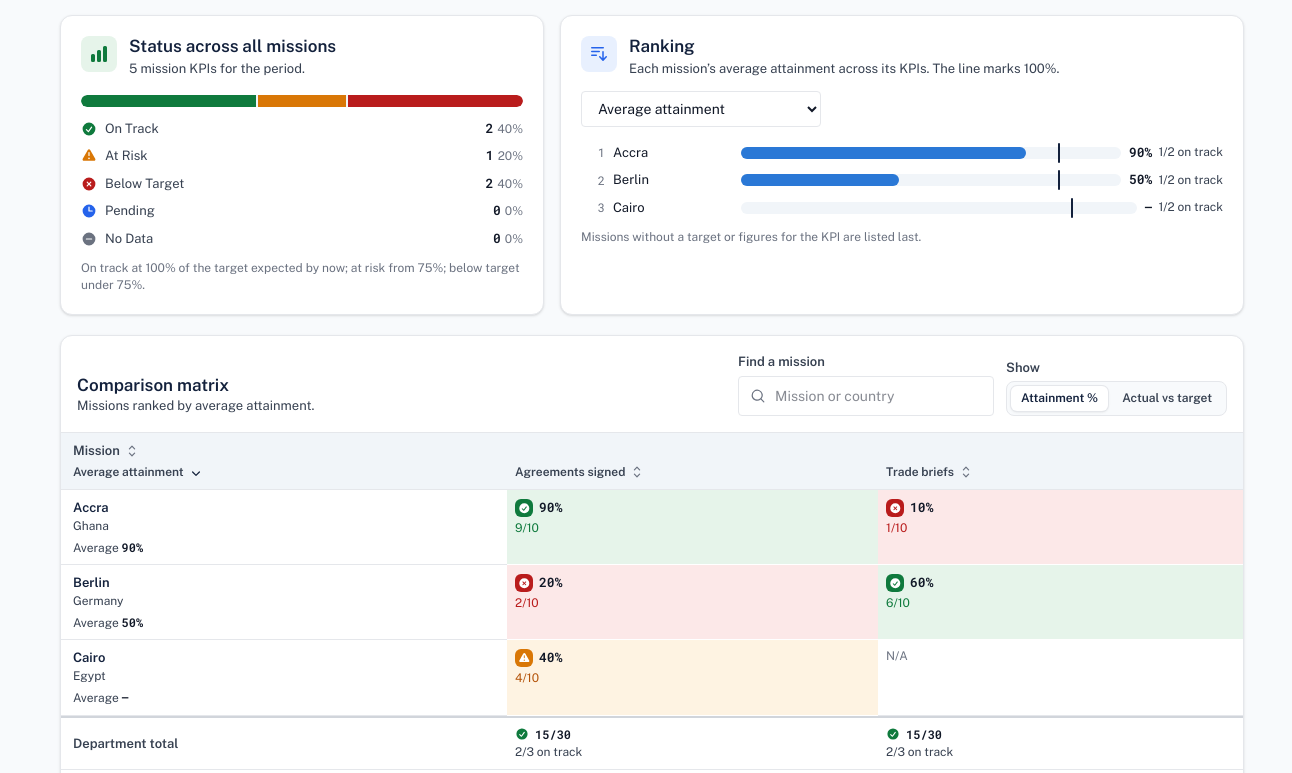
Test: KpiComparisonPage › filters missions by name or country
(page scrolled)
Expected: the row with test id "kpi-matrix-row-mission-accra" is shown, [61,490,1243,565]
Type "germ" into the search field labelled "Find a mission" at (866, 396), box [738,376,994,416]
(page scrolled)
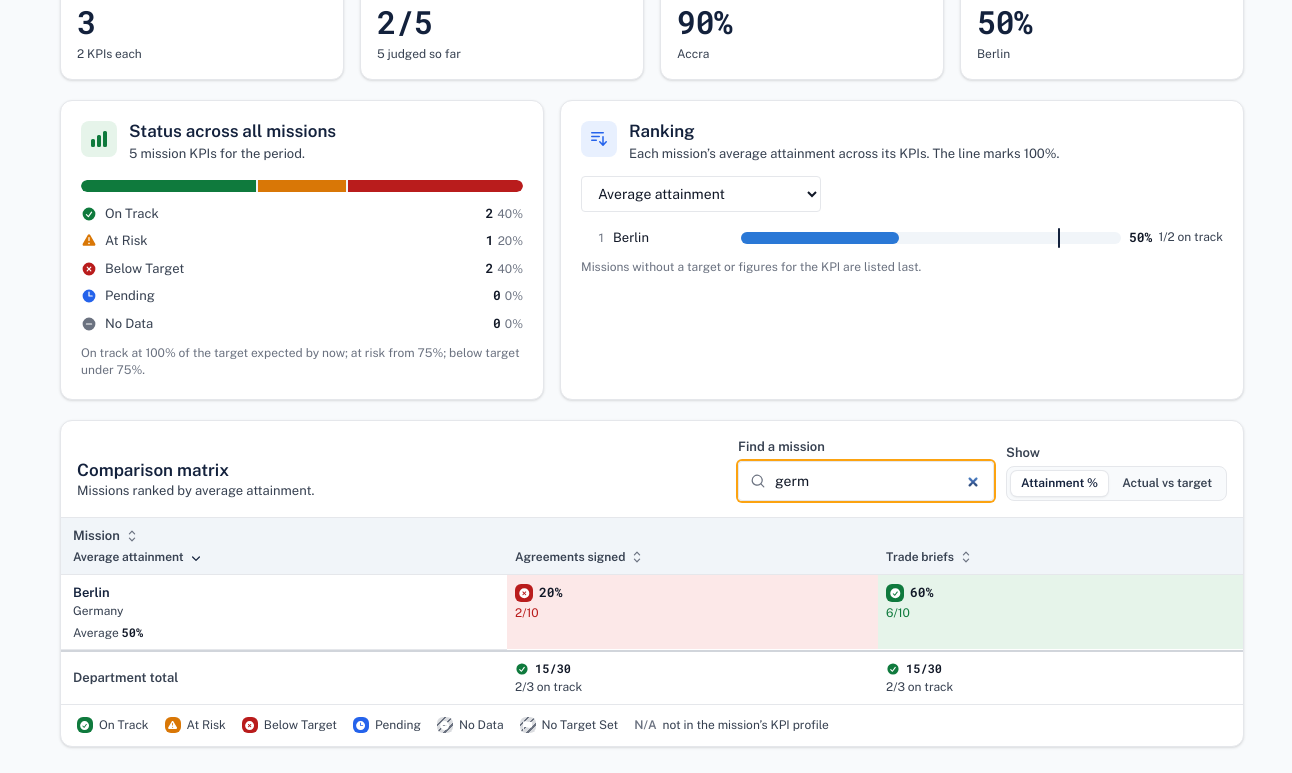
Clear the search field labelled "Find a mission" at (866, 481), box [738,460,994,501]
(page scrolled)
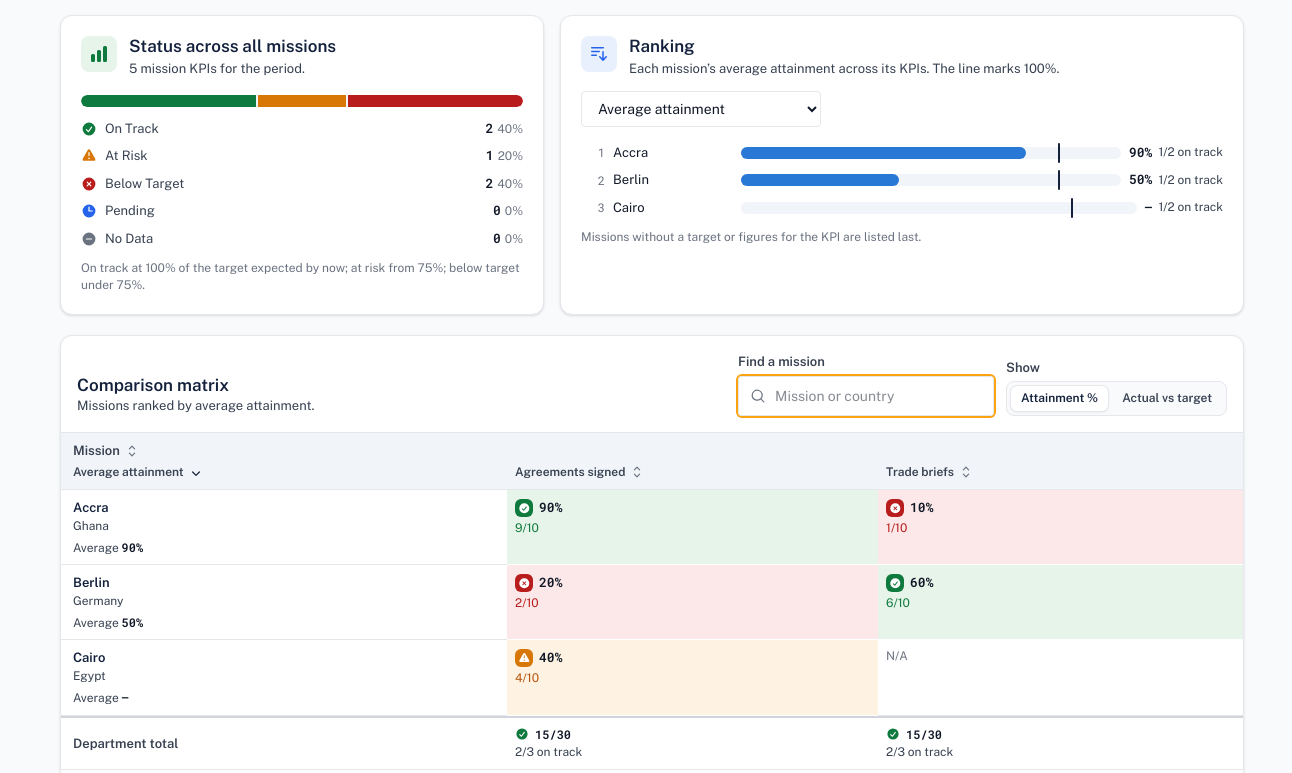
Type "nowhere" into the search field labelled "Find a mission" at (866, 396), box [738,376,994,416]
(page scrolled)
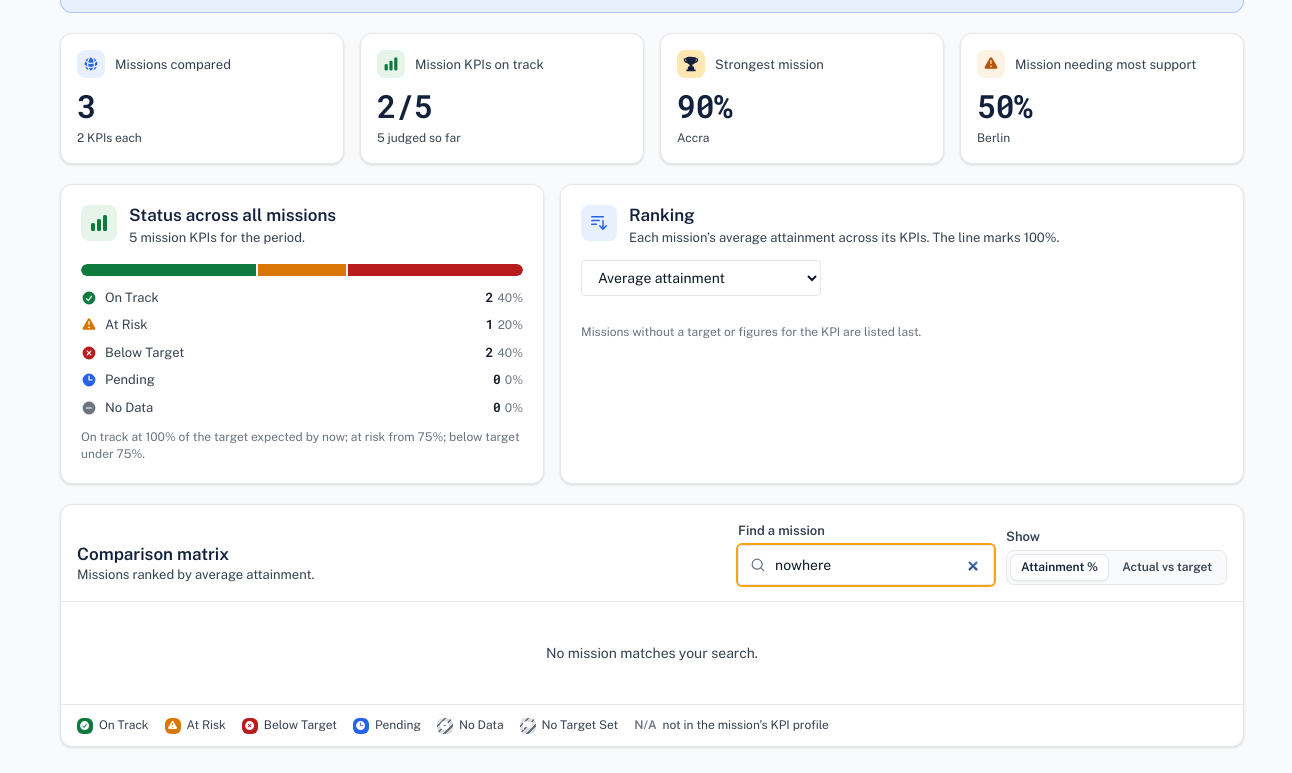
Expected: the text "No mission matches your search." is shown, [546,645,758,661]
